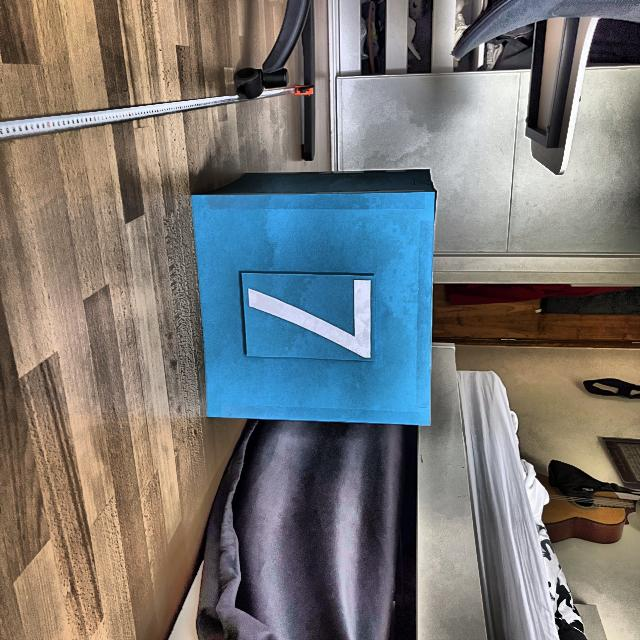blue box: (188, 158, 442, 432)
seven: (241, 273, 380, 363)
